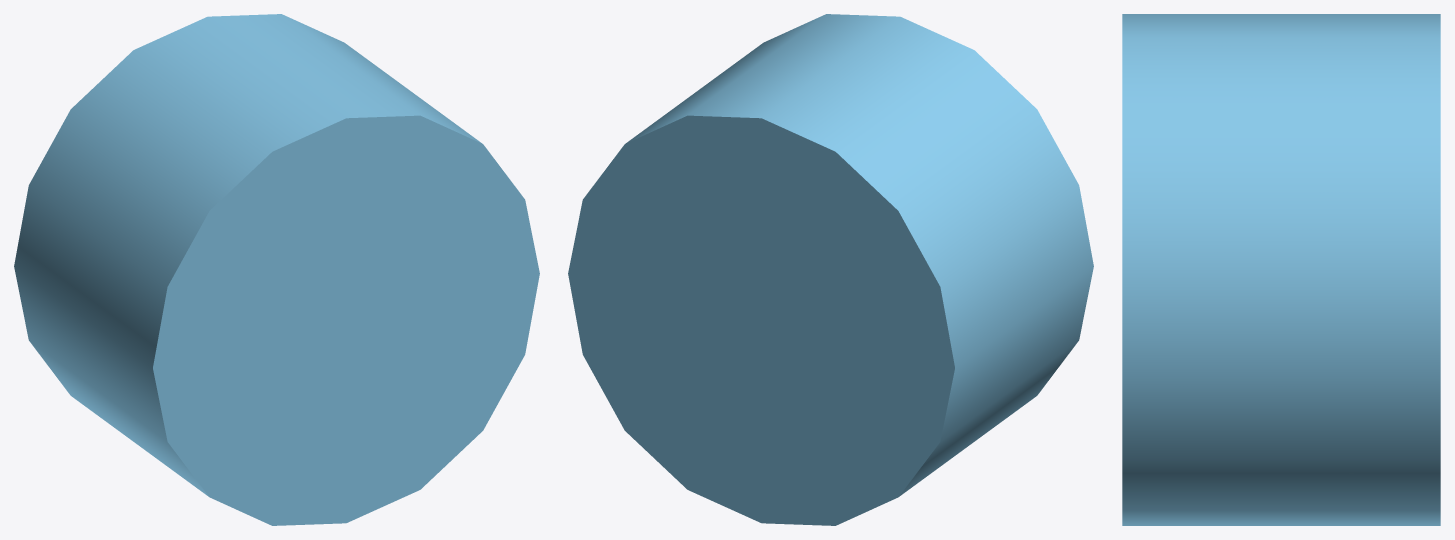
Rendered from ion_cannon_lens.glb.
The picture shows the model from 3 angles, left to right: view 1: azimuth 30°, elevation 25°; view 2: azimuth 150°, elevation 25°; view 3: azimuth 270°, elevation 25°; orthographic projection. The views are drawn at different scales.
Parts seen in each view (by area): view 1: ion_cannon_lens; view 2: ion_cannon_lens; view 3: ion_cannon_lens.
Part boxes in pixels (bbox=[...]): ion_cannon_lens: bbox=[14, 14, 539, 525]; ion_cannon_lens: bbox=[568, 14, 1093, 525]; ion_cannon_lens: bbox=[1122, 14, 1440, 525].
Size of the model in its own units: 0.322 by 0.322 by 0.2.
